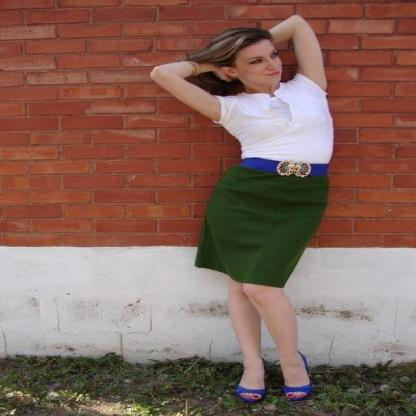shirt: (215, 75, 333, 163)
shoe: (236, 383, 310, 400)
skirt: (195, 164, 328, 287)
